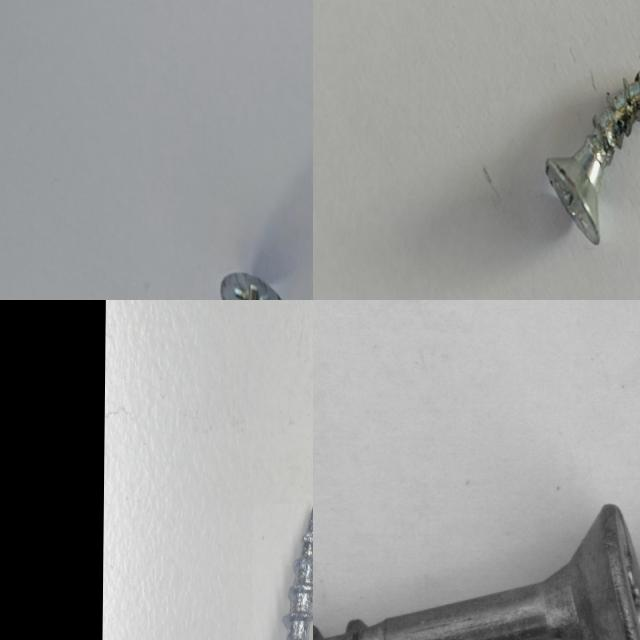Screw: (313, 477, 640, 640), (546, 70, 640, 244), (283, 507, 313, 640)
